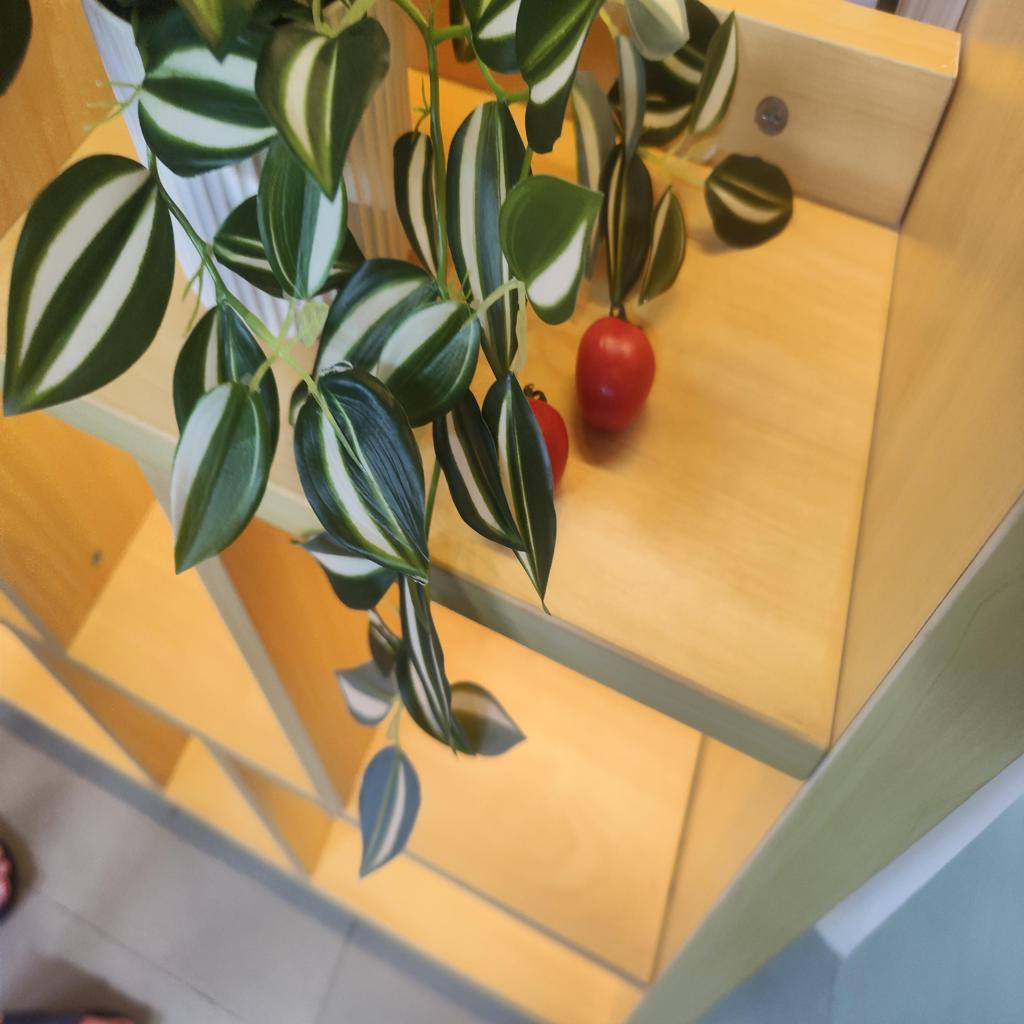tomato: (575, 316, 659, 440), (503, 378, 577, 483)
